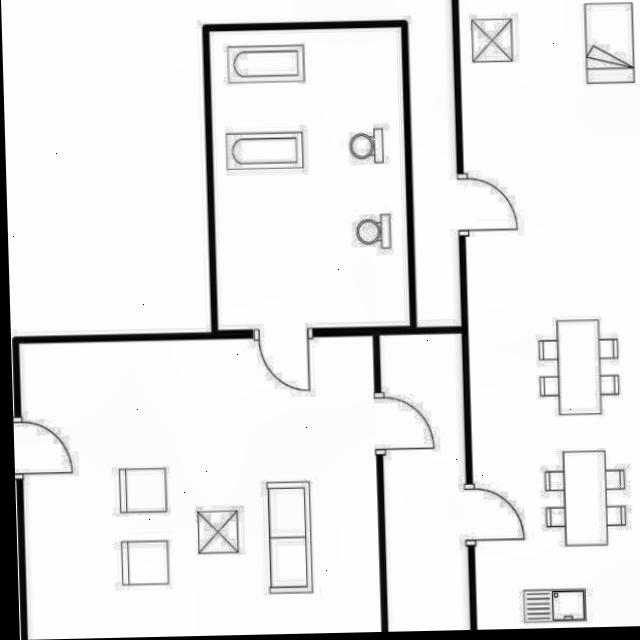room: (458, 0, 640, 630), (19, 337, 380, 640), (209, 27, 409, 331), (380, 333, 469, 632)
